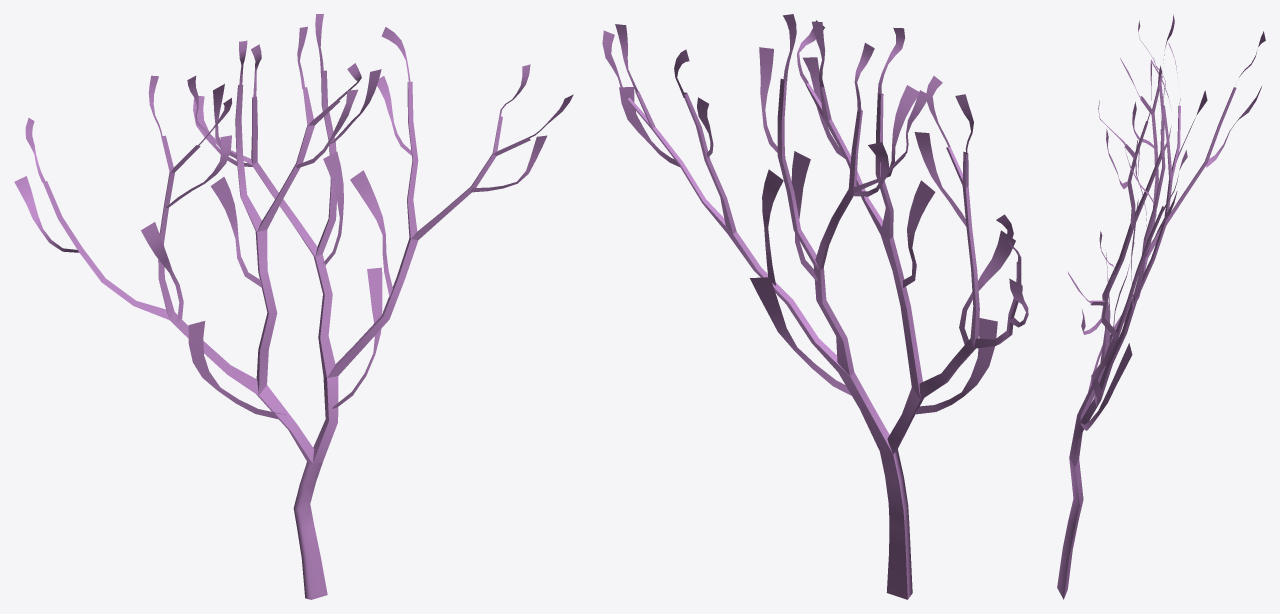
The model's file is coral_C_light.fbx.
3 views of the same model, side by side, from view 1: azimuth 30°, elevation 25°; view 2: azimuth 150°, elevation 25°; view 3: azimuth 270°, elevation 25° (orthographic). The views are drawn at different scales.
Parts seen in each view (by area): view 1: coral_C_twigs, coral_C_flowers; view 2: coral_C_twigs, coral_C_flowers; view 3: coral_C_twigs, coral_C_flowers.
Boxes of the visible parts, x1,y1,x2,y2 form: coral_C_twigs: (43, 70, 530, 599); coral_C_flowers: (14, 14, 573, 419); coral_C_twigs: (627, 78, 1021, 599); coral_C_flowers: (602, 14, 1028, 414); coral_C_twigs: (1057, 75, 1236, 599); coral_C_flowers: (1067, 14, 1265, 430).
Size of the model in its own units: 137 by 151 by 51.73.
